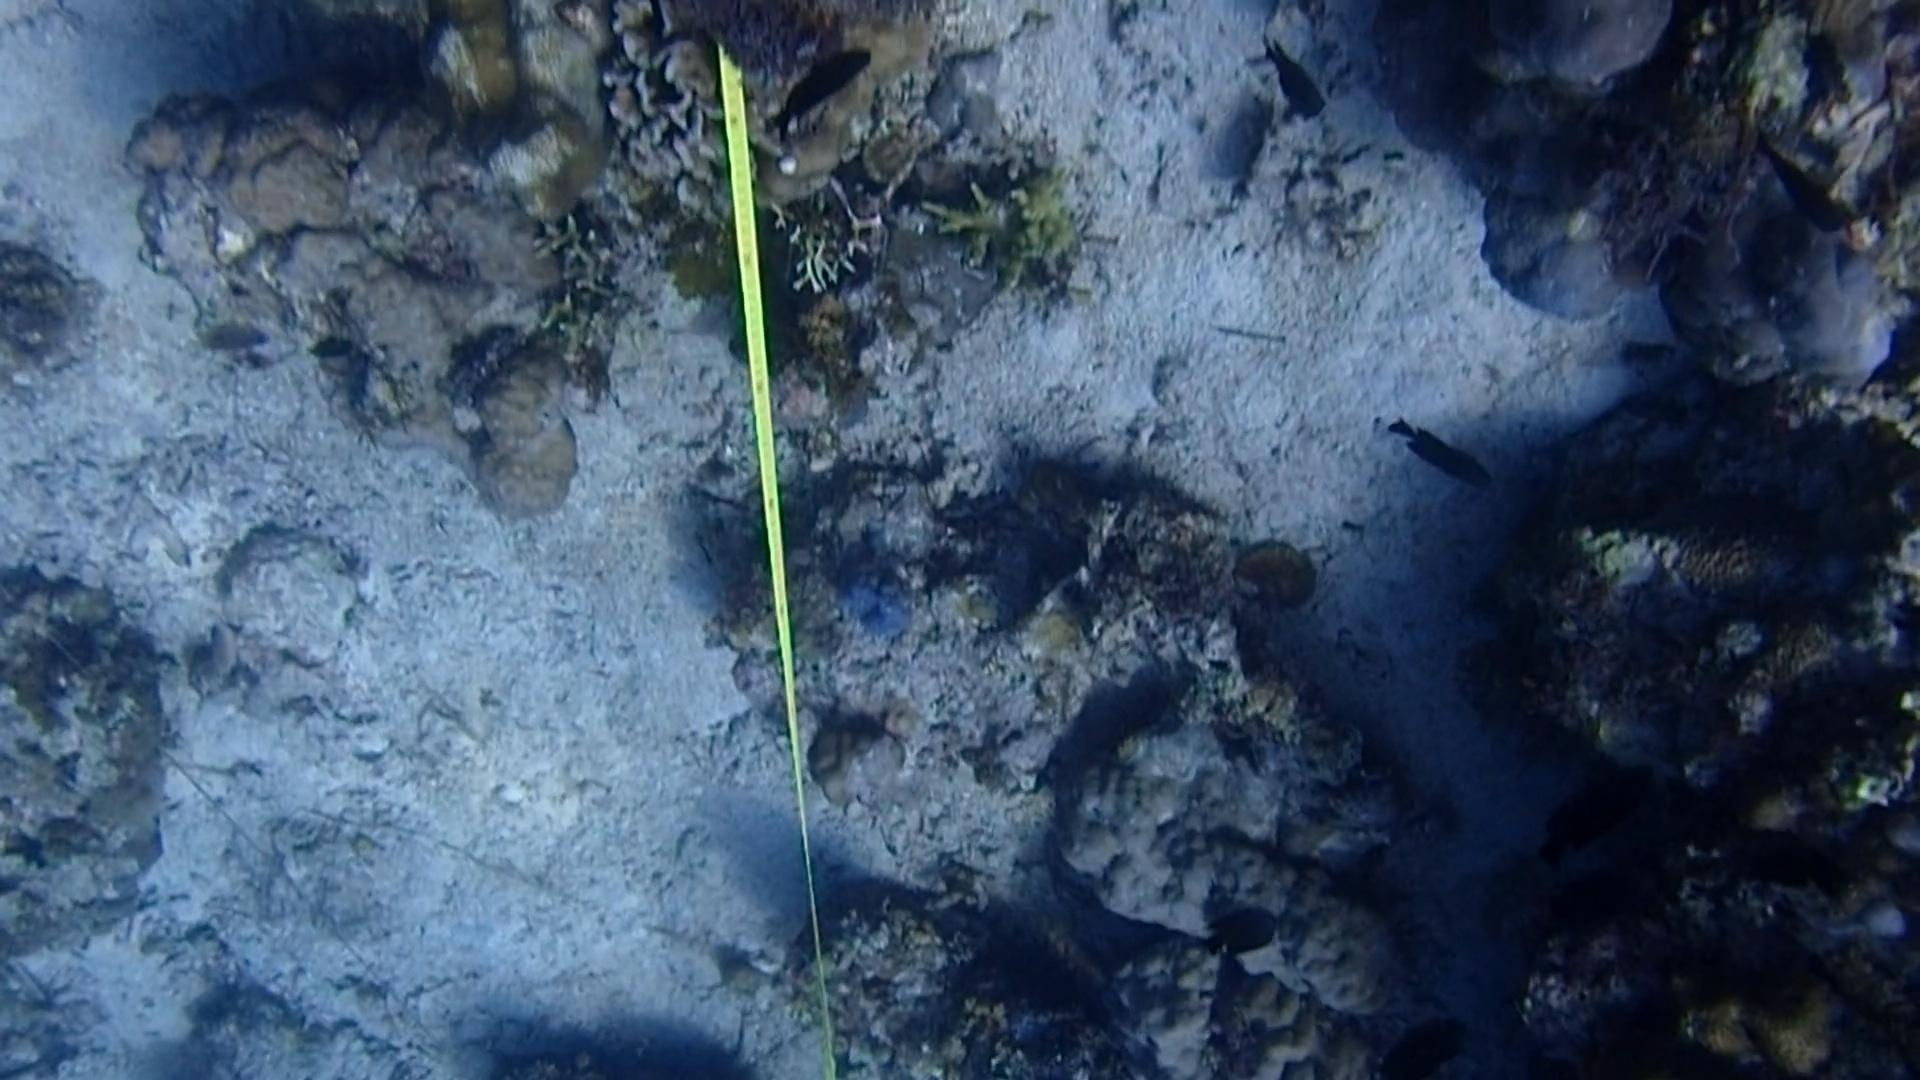Dark Fish: (1374, 414, 1513, 512), (1722, 129, 1842, 237), (1539, 754, 1650, 862), (766, 33, 869, 135), (1237, 33, 1337, 129), (1374, 1004, 1482, 1072), (1187, 891, 1298, 952)
Light Fish: (191, 615, 257, 695)
